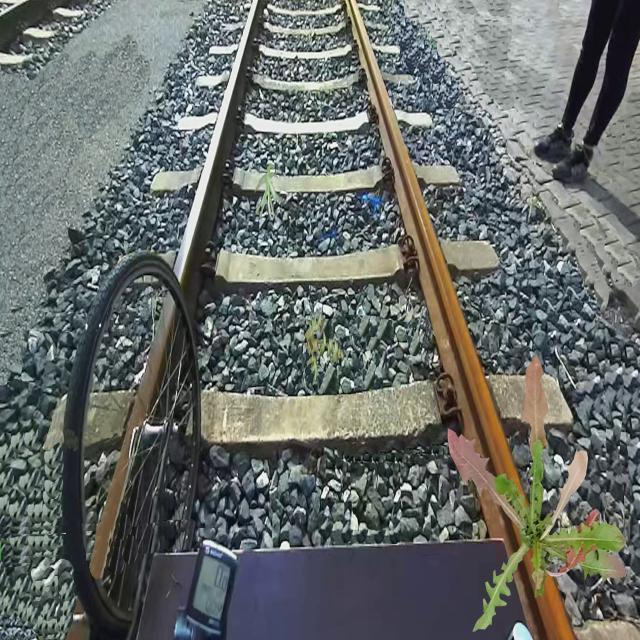Plant: (448, 354, 628, 632), (303, 311, 344, 382), (254, 163, 280, 220)
